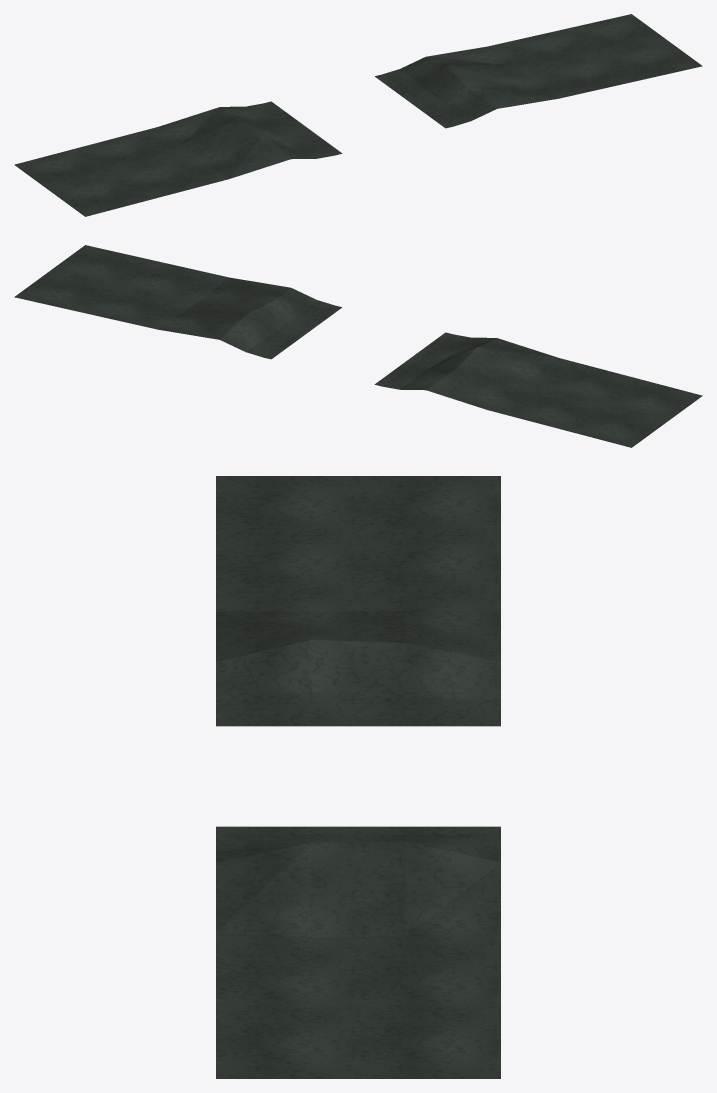
The model's file is shoulder_0.glb.
3 renders of one model, top to bottom at view 1: azimuth 30°, elevation 25°; view 2: azimuth 150°, elevation 25°; view 3: azimuth 270°, elevation 25°, orthographic. The views are drawn at different scales.
Parts seen in each view (by area): view 1: Stone_Shoulders_0; view 2: Stone_Shoulders_0; view 3: Stone_Shoulders_0.
Boxes of the visible parts, left/top/right/bottom form: Stone_Shoulders_0: left=14, top=14, right=702, bottom=216; Stone_Shoulders_0: left=14, top=245, right=702, bottom=447; Stone_Shoulders_0: left=216, top=476, right=500, bottom=1078.
Size of the model in its own units: 60 by 1.57 by 12.
1 material, 1 textured.
